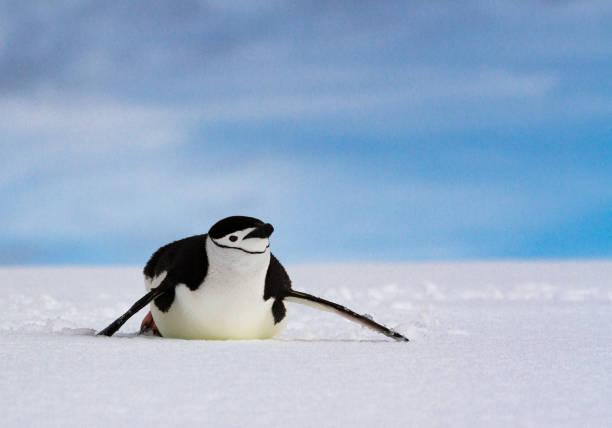chinstrap: (77, 169, 405, 382)
